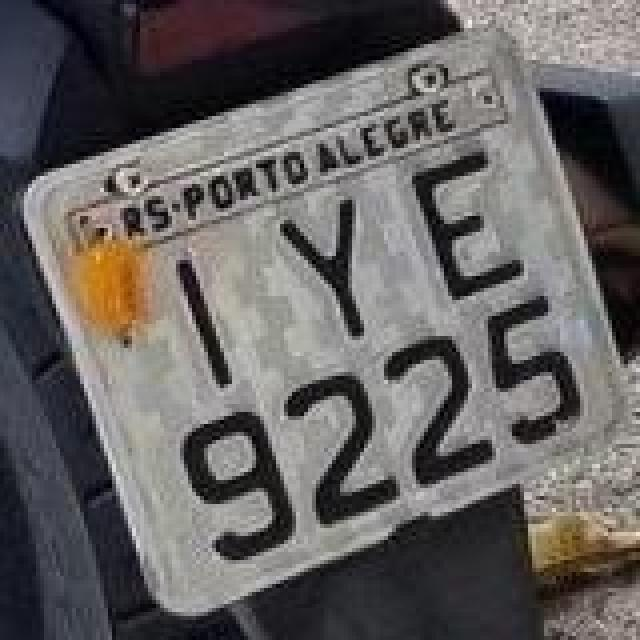1: (168, 254, 240, 386)
2: (278, 368, 402, 528), (382, 334, 498, 490)
5: (484, 290, 588, 446)
9: (180, 410, 300, 566)
E: (408, 146, 528, 302)
Y: (280, 198, 368, 338)
